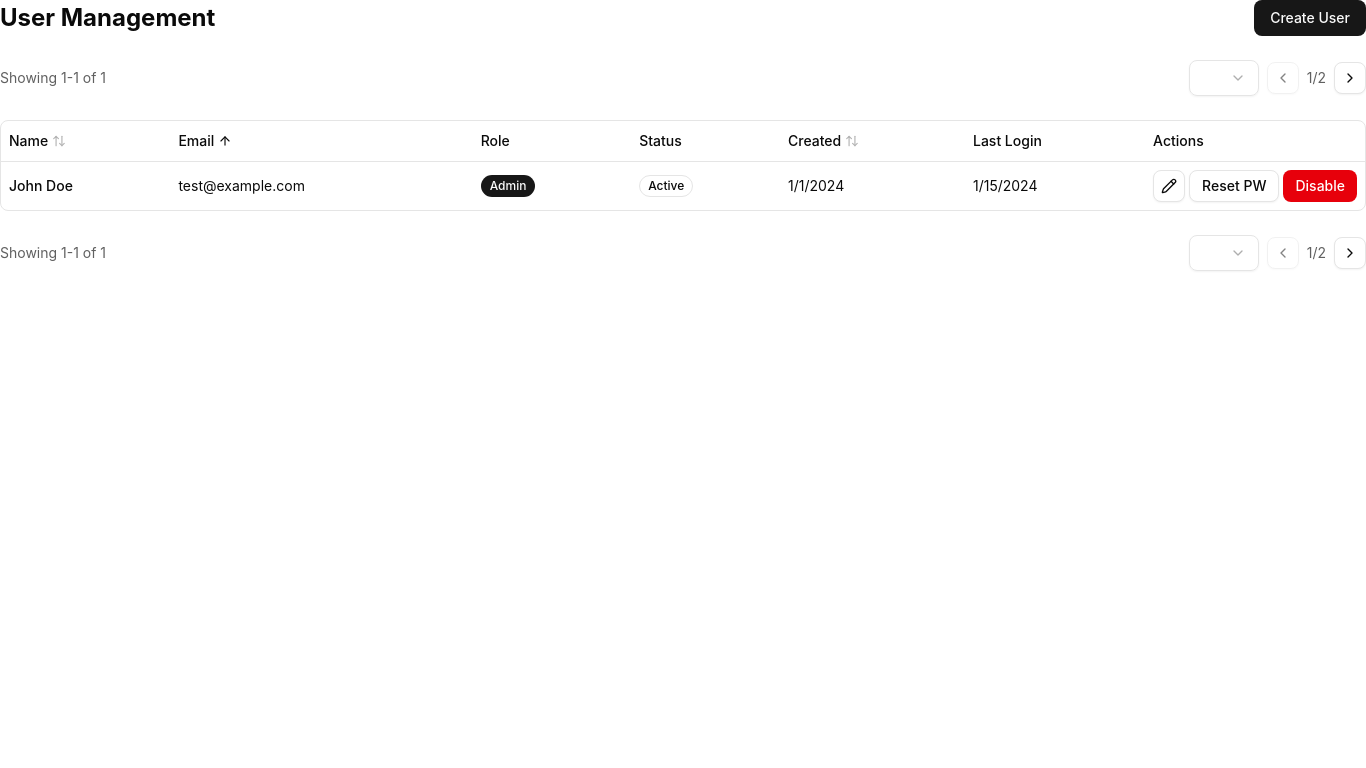
Test case: AdminUsers › closes edit dialog when dialog is dismissed
This screenshot has width=1366, height=768.
Click the button named "edit": {"x": 1169, "y": 186} top-left (1153, 170), bottom-right (1185, 202)
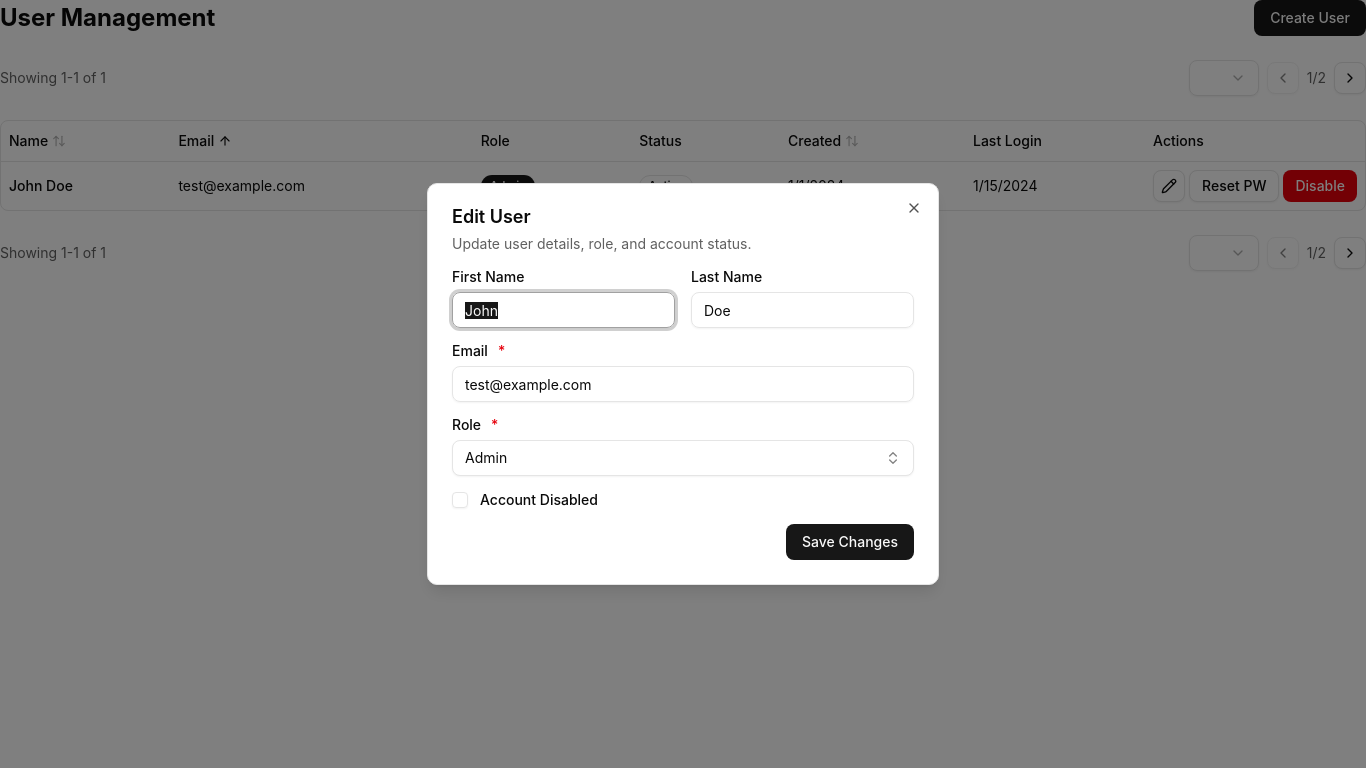
Expected: the text "Update user details, role, and account status." is shown, top-left (452, 235), bottom-right (752, 252)
Press Escape
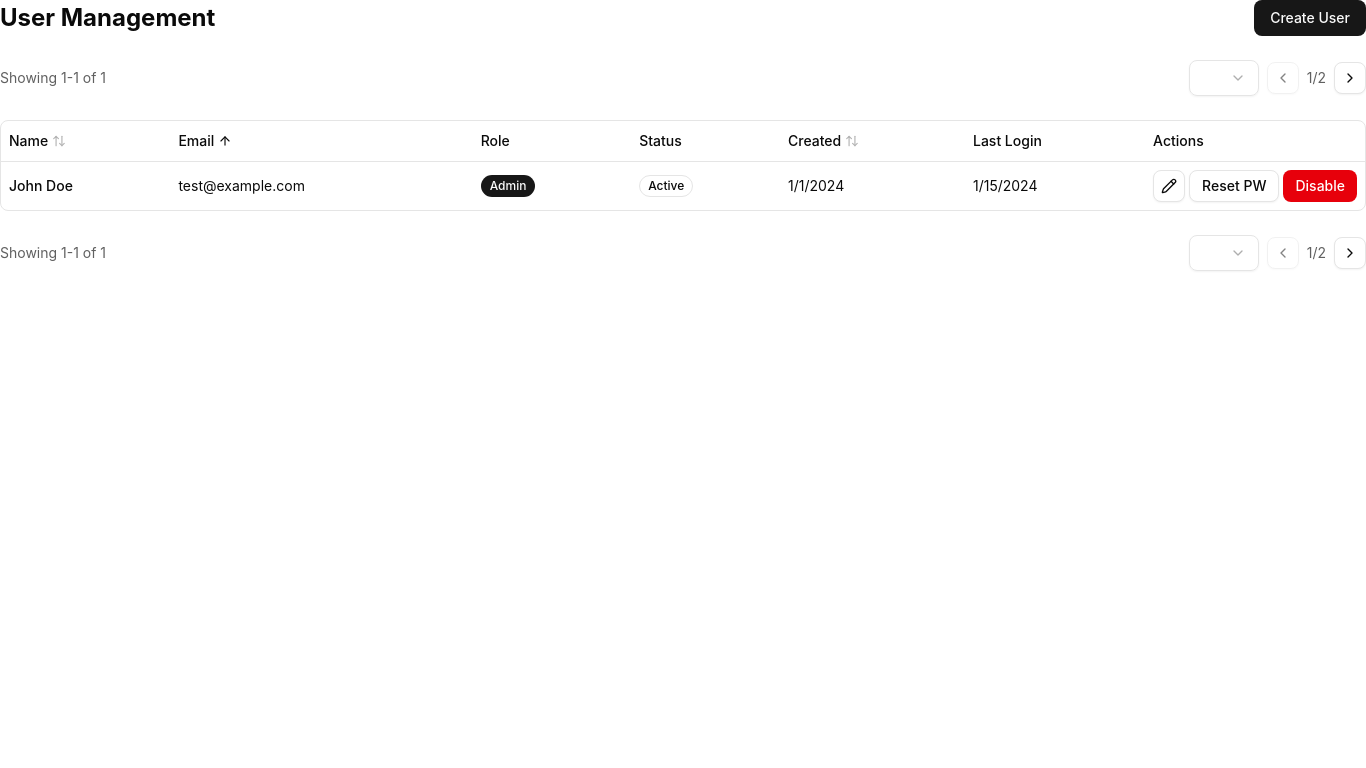
Expected: the text "Update user details" is gone
